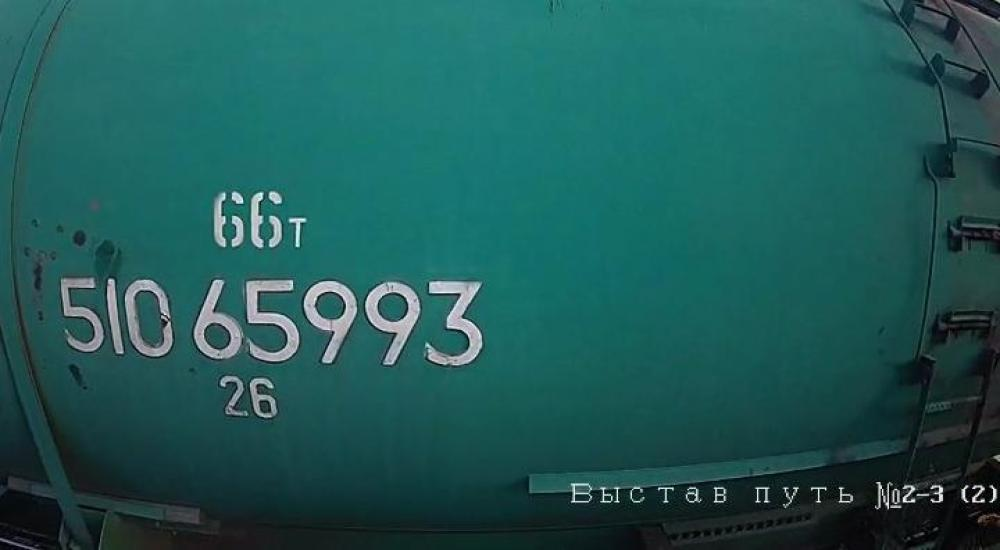Wagon-number: (52, 262, 494, 371)
